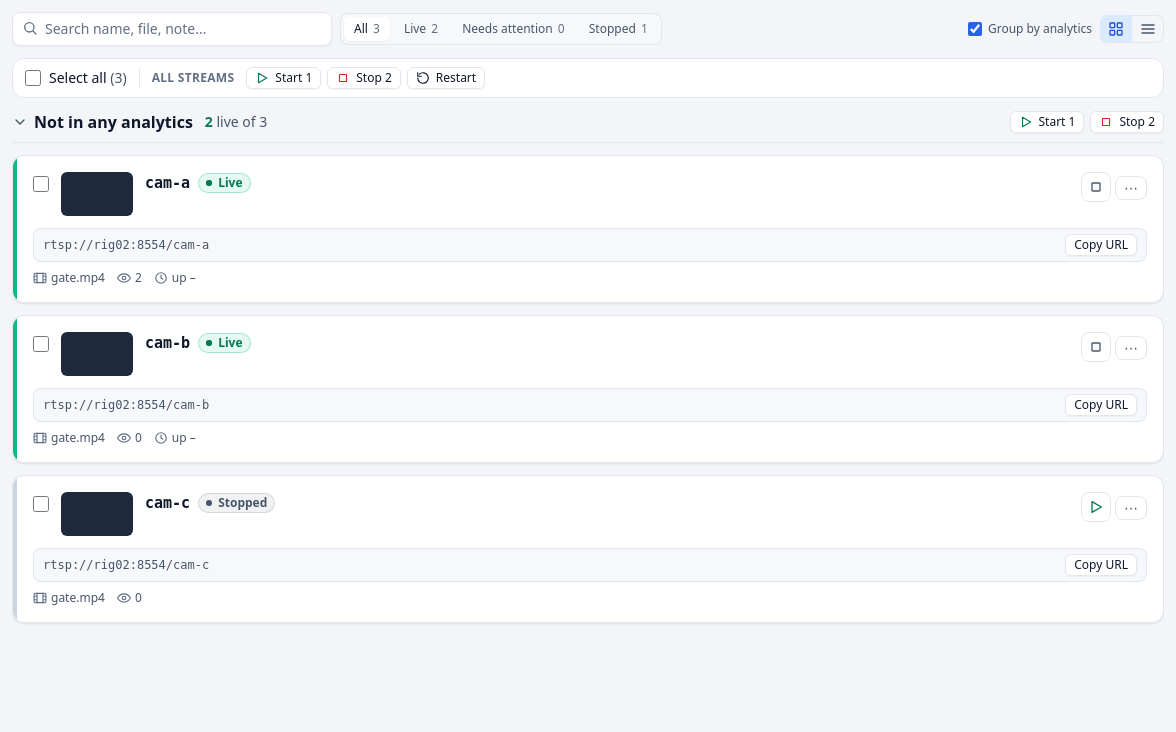
it: Streams bulk controls › selects and deselects every shown stream from one checkbox
Click the checkbox named "Select all 3 shown".
click(33, 78)  # box [25,70,41,86]
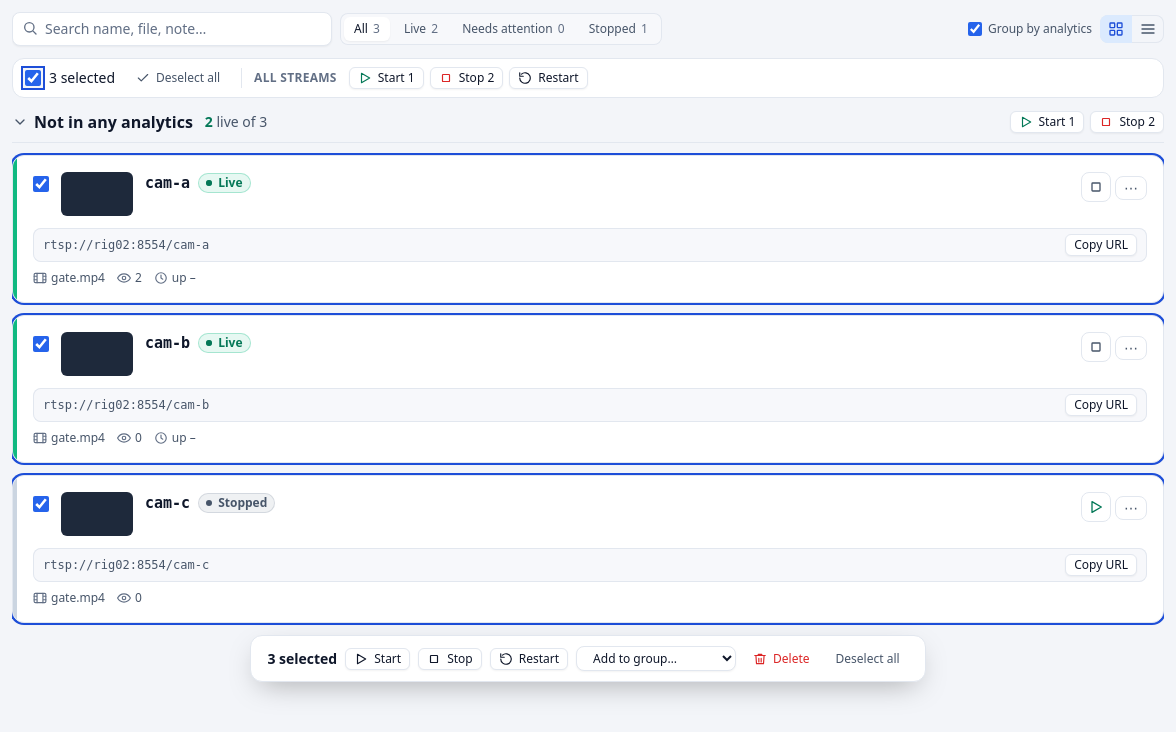
expect the text "3 selected" in the row of "All streams" is shown: met, box [49,68,115,88]
expect the checkbox named "Select cam-b" is checked: met, box [33,336,49,352]
Click the button "Deselect all" next to "All streams".
click(178, 78)  # box [127,67,229,89]
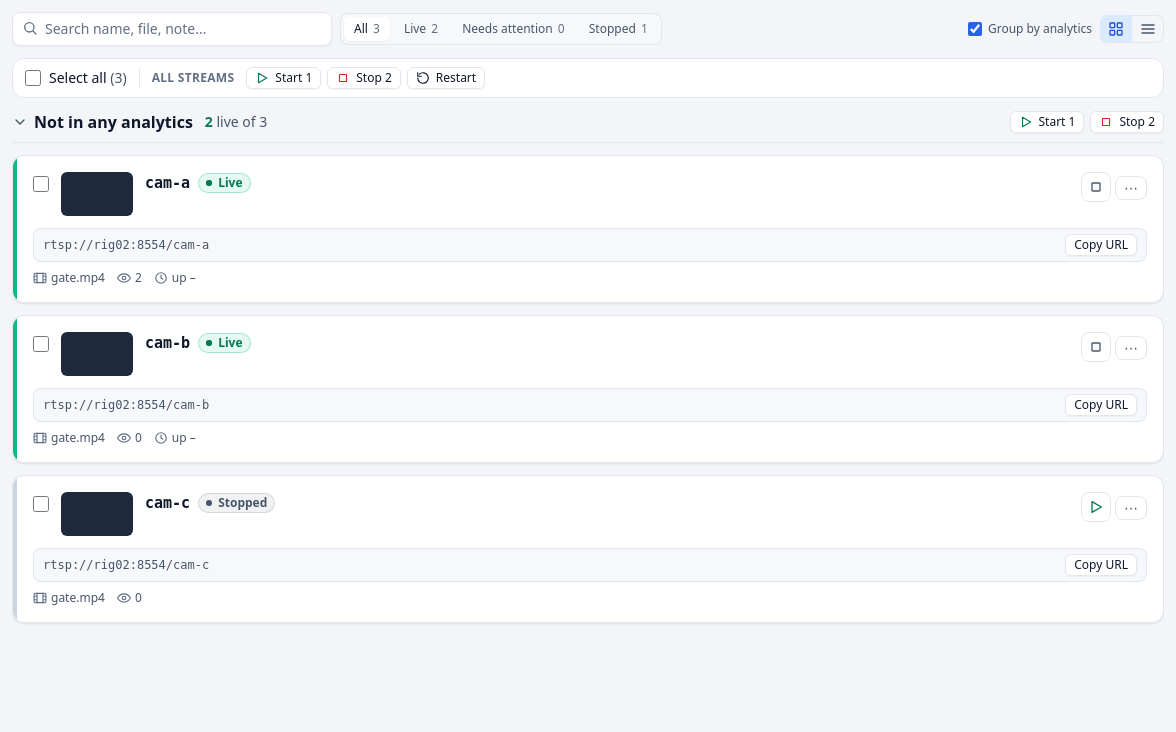
expect the checkbox named "Select cam-b" is not checked: met, box [33,336,49,352]
